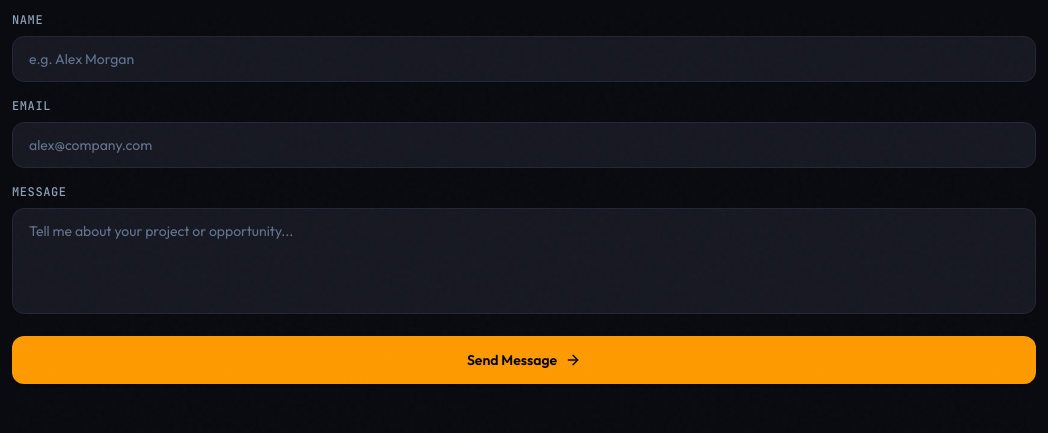
Test case: shows inline validation when submitting an empty form
The width and height of the screenshot is (1048, 433).
Click the button "Send Message": x=524, y=360 [12,336,1036,384]
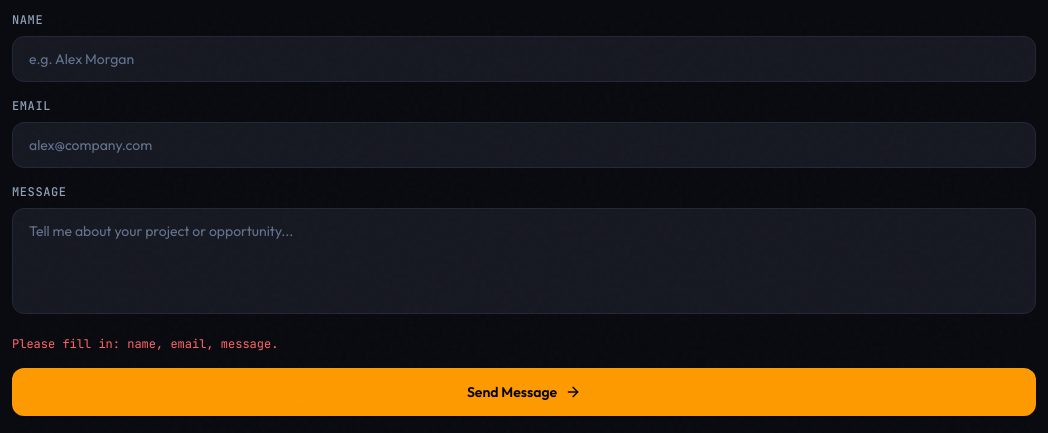
expect the message shows "Please fill in": met, box [12,336,278,352]
